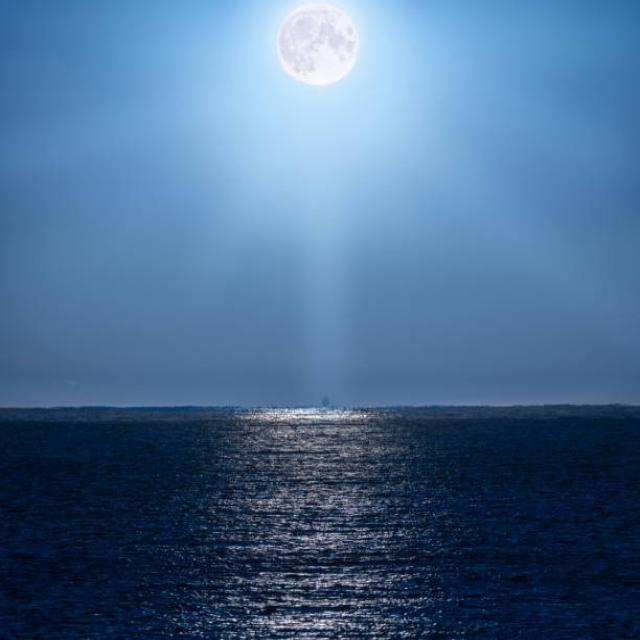moon: (278, 2, 358, 82)
